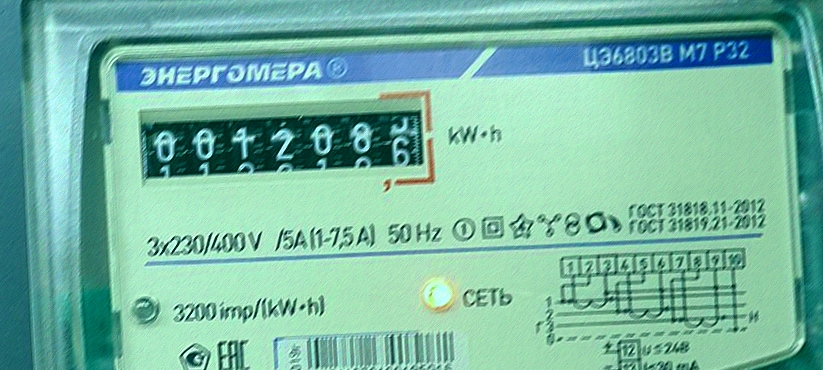0: (310, 118, 337, 155), (193, 122, 218, 160), (155, 124, 177, 162)
1: (234, 121, 253, 159)
2: (271, 123, 299, 160)
6: (388, 129, 414, 166)
8: (349, 117, 374, 154)
screen: (128, 78, 447, 215)
